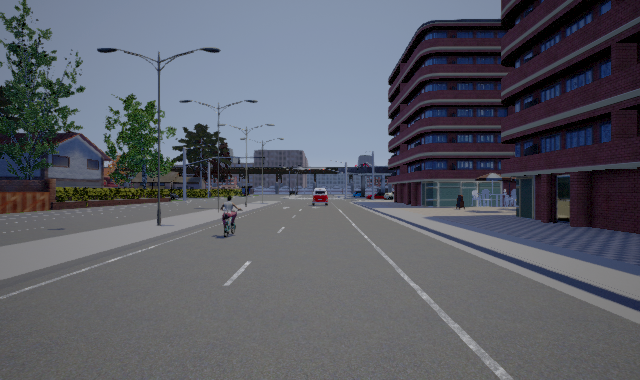bike: (218, 196, 242, 238)
vehicle: (312, 188, 328, 206)
